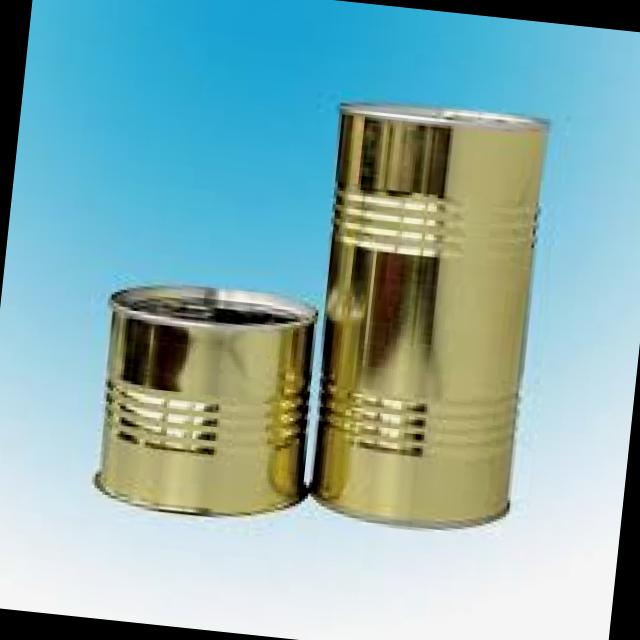metal: (311, 103, 545, 527), (94, 286, 314, 515)
